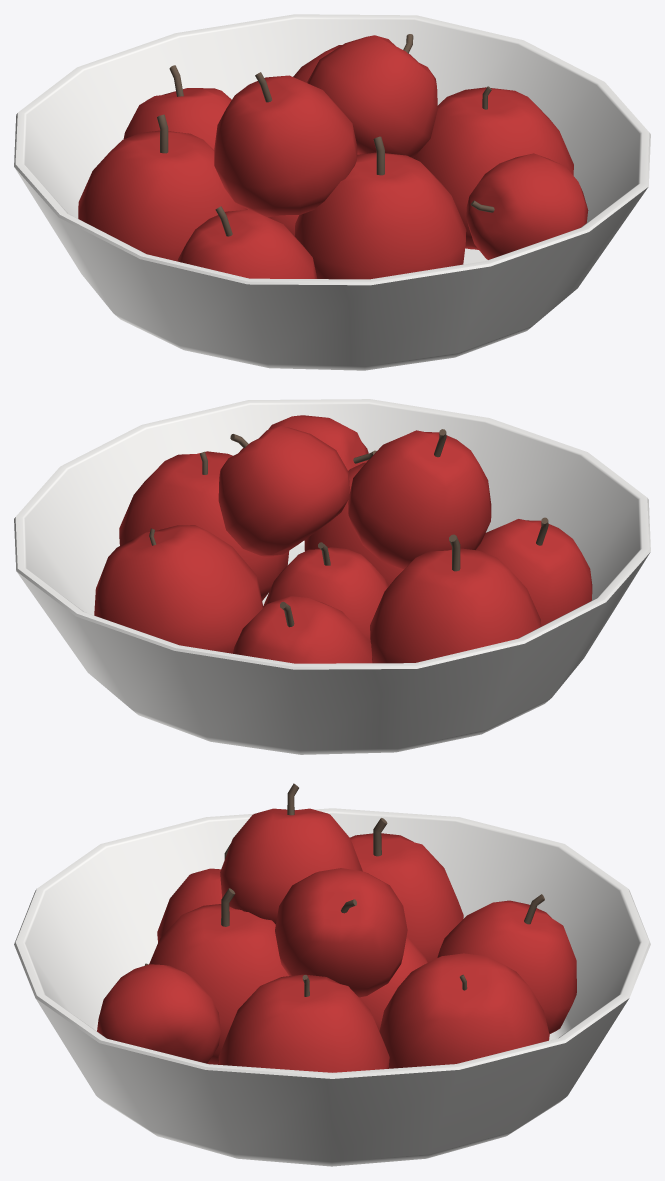
Rendered from Plate_with_apples_1.glb.
3 views of the same model, one above another, from view 1: azimuth 30°, elevation 25°; view 2: azimuth 150°, elevation 25°; view 3: azimuth 270°, elevation 25° (orthographic).
Parts seen in each view (by area): view 1: Plate_with_apples_1; view 2: Plate_with_apples_1; view 3: Plate_with_apples_1.
Boxes of the visible parts, x1,y1,x2,y2 form: Plate_with_apples_1: (14,14,650,370); Plate_with_apples_1: (14,399,650,754); Plate_with_apples_1: (14,783,650,1166).
Bounding box in the file's own units: 0.432 × 0.1768 × 0.432.
Materials: 2 (2 with a texture image).
